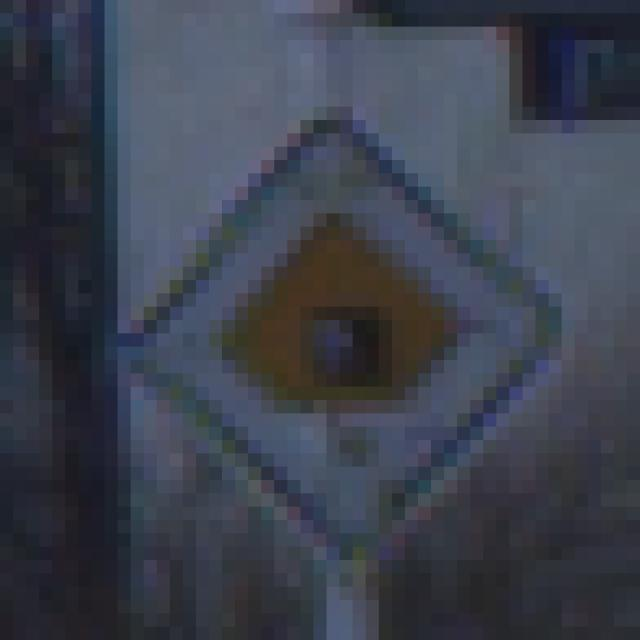Main Road: (79, 81, 576, 574)
